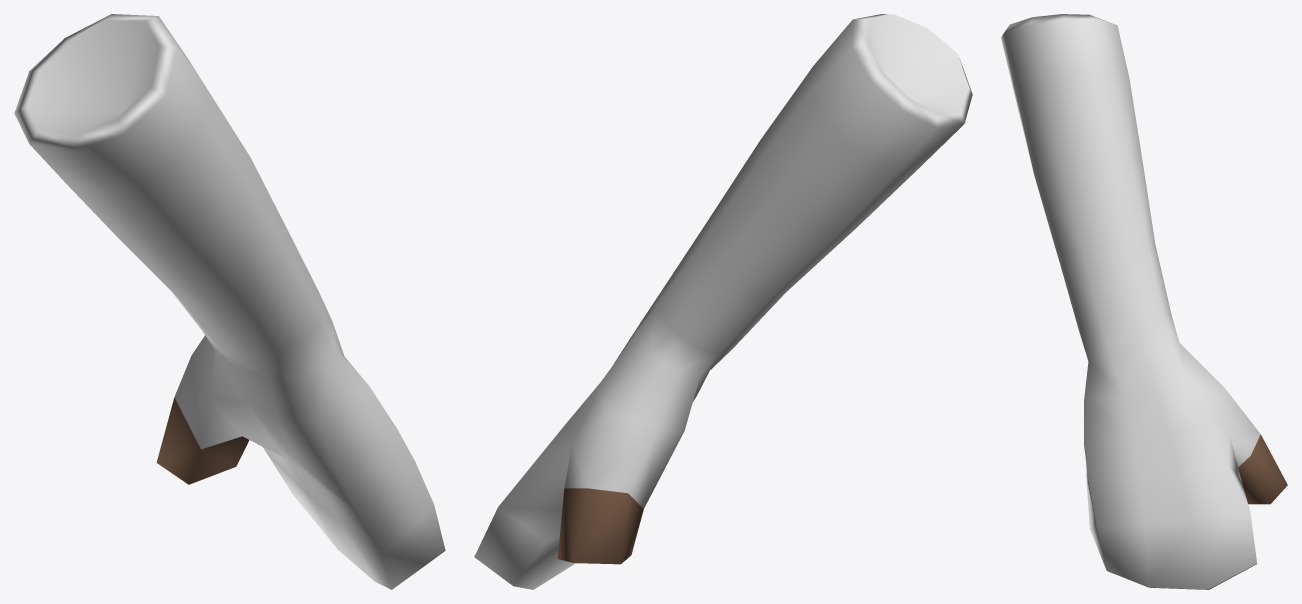
3 renders of one model, left to right at view 1: azimuth 30°, elevation 25°; view 2: azimuth 150°, elevation 25°; view 3: azimuth 270°, elevation 25°, orthographic. The views are drawn at different scales.
Visible parts, largest first — view 1: geometry_0; view 2: geometry_0; view 3: geometry_0.
Part boxes in pixels (left/top/right/bottom): geometry_0: left=14, top=14, right=445, bottom=589; geometry_0: left=474, top=14, right=972, bottom=589; geometry_0: left=1001, top=14, right=1287, bottom=589.
Size of the model in its own units: 0.8171 by 1.15 by 0.6289.
Materials: 1 (1 with a texture image).
